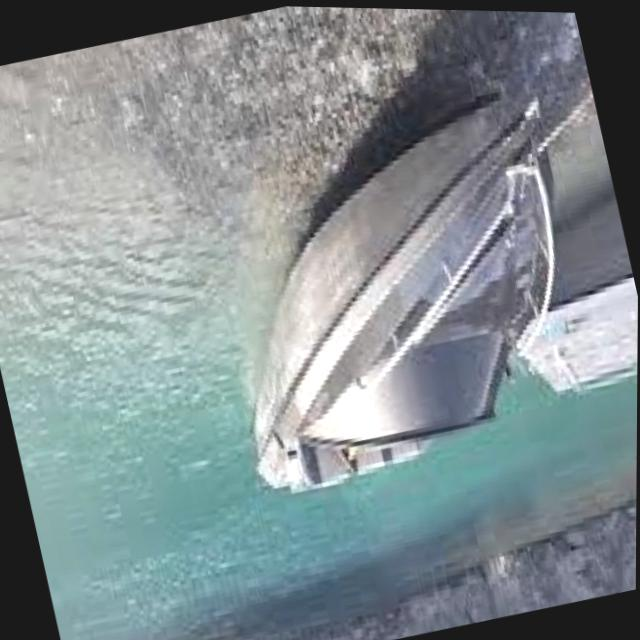ship2: (252, 87, 557, 488)
